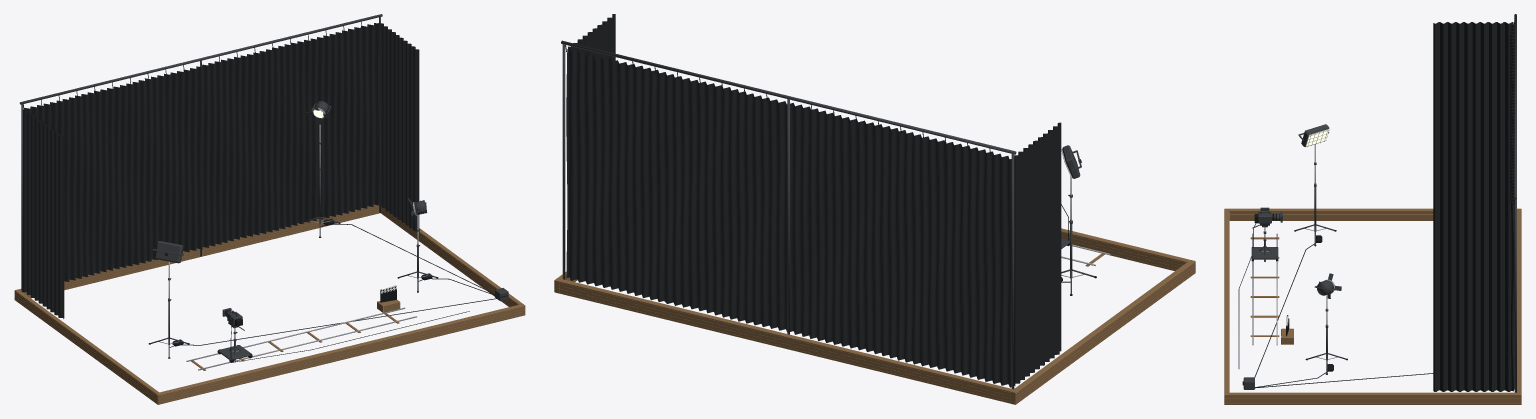
File: studio-rig.glb
3 views of the same model, side by side, from view 1: azimuth 30°, elevation 25°; view 2: azimuth 150°, elevation 25°; view 3: azimuth 270°, elevation 25° (orthographic). The views are drawn at different scales.
Parts seen in each view (by area): view 1: RearVelourCurtain, LeftVelourReturn, RightVelourReturn, StageFrontPlywood, StageBackPlywood, StageLeftPlywood, StageRightPlywood, CurtainTopRail, RigKey_SoftboxHousing; view 2: RearVelourCurtain, LeftVelourReturn, StageBackPlywood, StageLeftPlywood, CurtainTopRail, StageFrontPlywood, RightVelourReturn, CurtainFramePost.002, CurtainFramePost, CurtainFramePost.001; view 3: RightVelourReturn, LeftVelourReturn, StageRightPlywood, StageLeftPlywood, RearVelourCurtain, StageFrontPlywood, StageBackPlywood, CurtainFramePost.002, CurtainTopRail, DollyDeck, StageRightPlywood_PlyEdge, StageRightPlywood_PlyEdge.002.
Boxes of the visible parts, x1,y1,x2,y2 form: RearVelourCurtain: (24, 23, 380, 281); LeftVelourReturn: (23, 109, 64, 318); RightVelourReturn: (378, 23, 419, 231); StageFrontPlywood: (156, 304, 524, 403); StageBackPlywood: (16, 204, 379, 298); StageLeftPlywood: (14, 289, 161, 404); StageRightPlywood: (381, 205, 525, 316); CurtainTopRail: (19, 14, 382, 104); RigKey_SoftboxHousing: (155, 241, 183, 263); RearVelourCurtain: (566, 48, 1011, 387); LeftVelourReturn: (1014, 122, 1061, 385); StageBackPlywood: (556, 278, 1015, 403); StageLeftPlywood: (1010, 261, 1195, 404); CurtainTopRail: (561, 40, 1016, 154); StageFrontPlywood: (1061, 228, 1194, 270); RightVelourReturn: (568, 14, 615, 276); CurtainFramePost.002: (562, 43, 565, 279); CurtainFramePost: (1011, 153, 1014, 389); CurtainFramePost.001: (787, 98, 789, 334); RightVelourReturn: (1433, 201, 1513, 391); LeftVelourReturn: (1433, 22, 1513, 203); StageRightPlywood: (1224, 392, 1521, 404); StageLeftPlywood: (1224, 208, 1521, 220); RearVelourCurtain: (1509, 24, 1514, 391); StageFrontPlywood: (1224, 209, 1229, 394); StageBackPlywood: (1517, 209, 1521, 394); CurtainFramePost.002: (1514, 199, 1516, 392); CurtainTopRail: (1514, 14, 1516, 199); DollyDeck: (1251, 247, 1278, 259); StageRightPlywood_PlyEdge: (1224, 403, 1521, 403); StageRightPlywood_PlyEdge.002: (1224, 398, 1521, 398).
Bounding box in the file's own units: 19.03 × 9.85 × 12.85.
